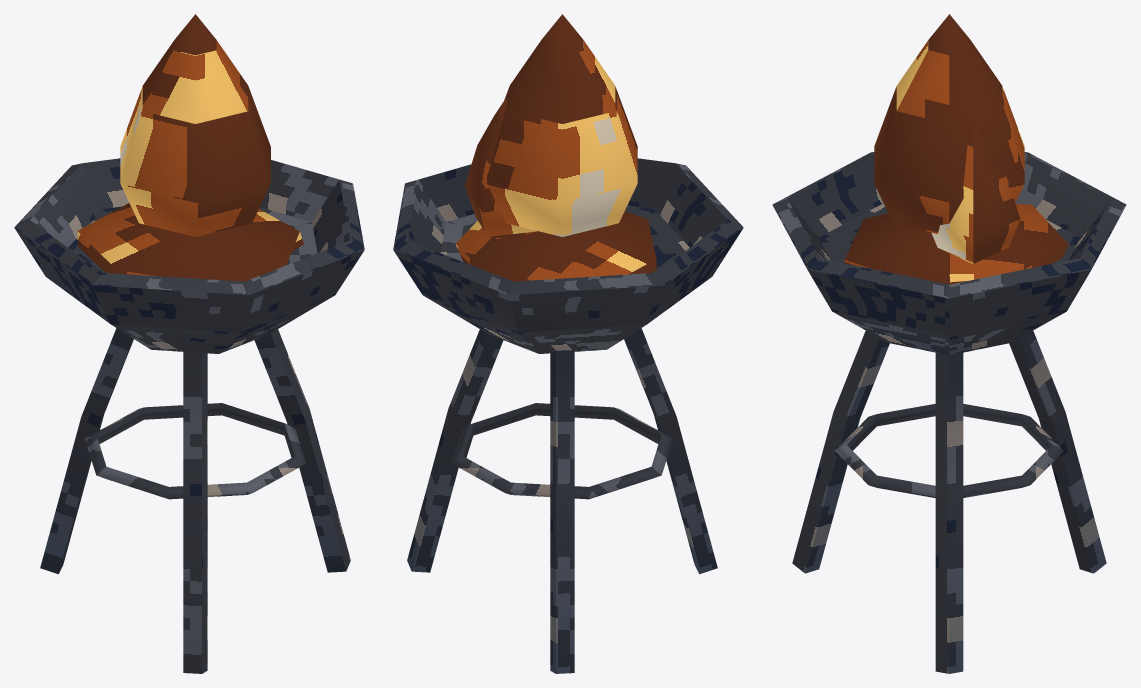
The model's file is dprop.brazier.glb.
3 views of the same model, side by side, from view 1: azimuth 30°, elevation 25°; view 2: azimuth 150°, elevation 25°; view 3: azimuth 270°, elevation 25° (orthographic).
Visible parts, largest first — view 1: kit_bowl, kit_legs, kit_flame, kit_coals; view 2: kit_bowl, kit_flame, kit_legs, kit_coals; view 3: kit_bowl, kit_legs, kit_flame, kit_coals.
Part boxes in pixels (<box>): kit_bowl: <box>14,158,364,353</box>; kit_legs: <box>40,328,350,673</box>; kit_flame: <box>120,14,270,236</box>; kit_coals: <box>77,203,303,281</box>; kit_bowl: <box>393,158,743,353</box>; kit_flame: <box>465,14,637,238</box>; kit_legs: <box>407,328,717,673</box>; kit_coals: <box>455,211,656,281</box>; kit_bowl: <box>772,152,1126,354</box>; kit_legs: <box>792,331,1106,673</box>; kit_flame: <box>874,14,1024,263</box>; kit_coals: <box>844,204,1068,284</box>.
Size of the model in its own units: 0.8744 by 1.65 by 0.8969.
2 materials, 2 textured.
